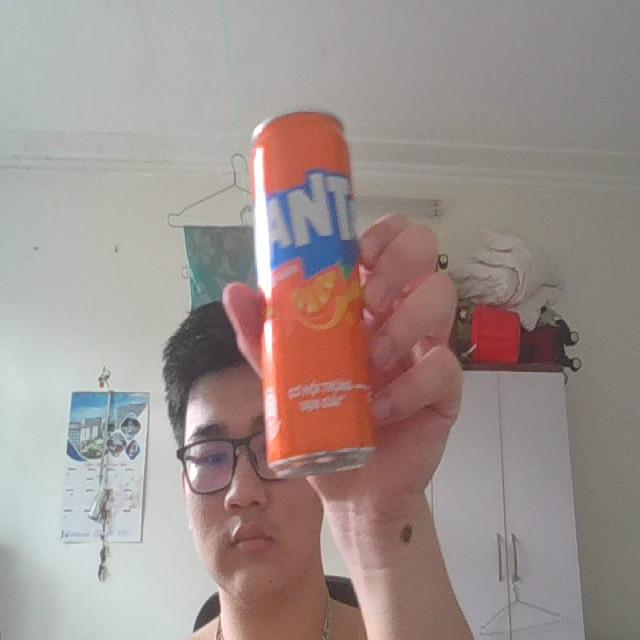Fanta: (250, 106, 376, 486)
